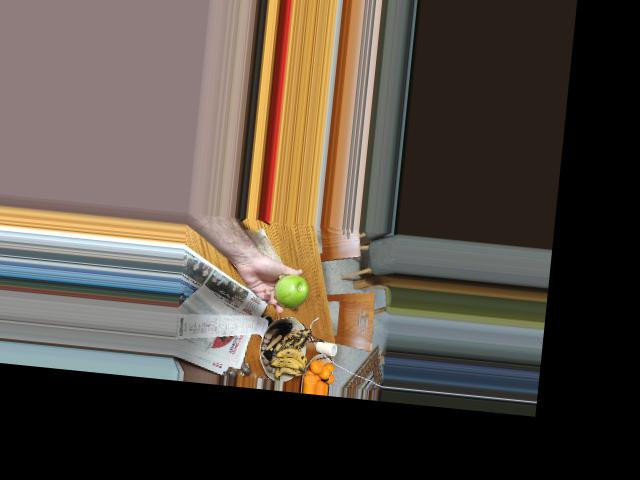apple: (270, 271, 313, 311)
